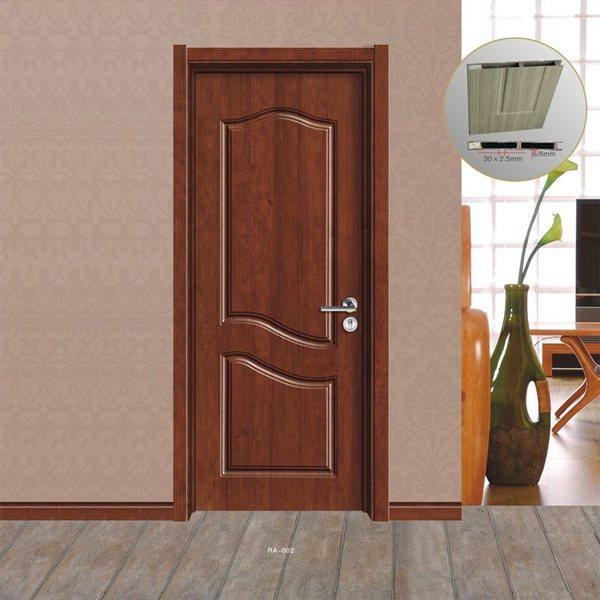door: (191, 65, 371, 510)
